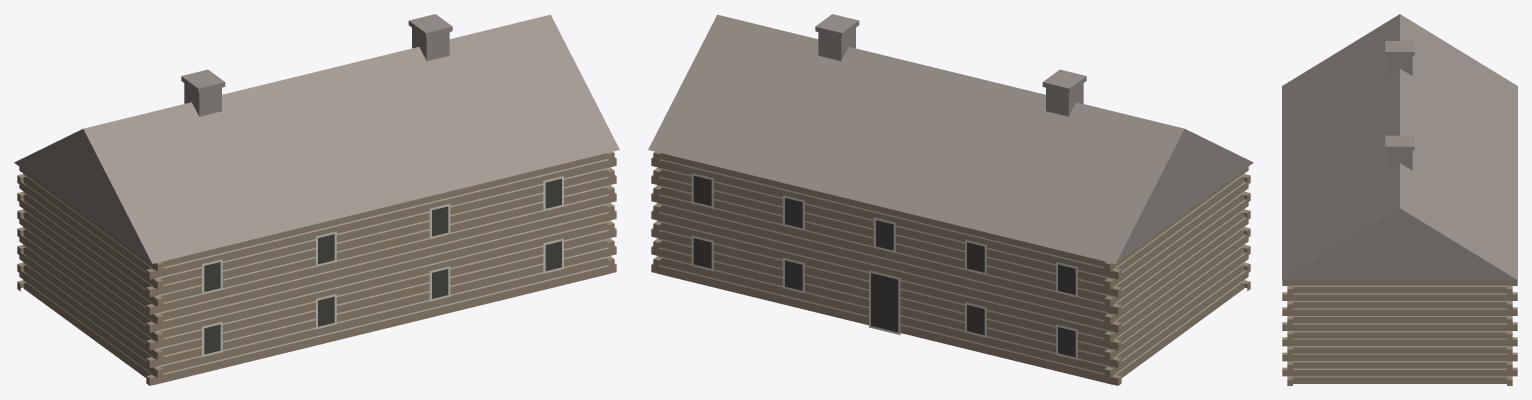
Rendered from fort_dearborn_officers_quarters__log_1816.glb.
3 views of the same model, side by side, from view 1: azimuth 30°, elevation 25°; view 2: azimuth 150°, elevation 25°; view 3: azimuth 270°, elevation 25° (orthographic). The views are drawn at different scales.
Visible parts, largest first — view 1: fort_dearborn_officers_quarters__log_1816; view 2: fort_dearborn_officers_quarters__log_1816; view 3: fort_dearborn_officers_quarters__log_1816.
Part boxes in pixels (x1=…): fort_dearborn_officers_quarters__log_1816: x1=14, y1=14, x2=619, y2=385; fort_dearborn_officers_quarters__log_1816: x1=648, y1=14, x2=1253, y2=385; fort_dearborn_officers_quarters__log_1816: x1=1282, y1=14, x2=1517, y2=385.
Size of the model in its own units: 18.79 by 8.9 by 9.64.
